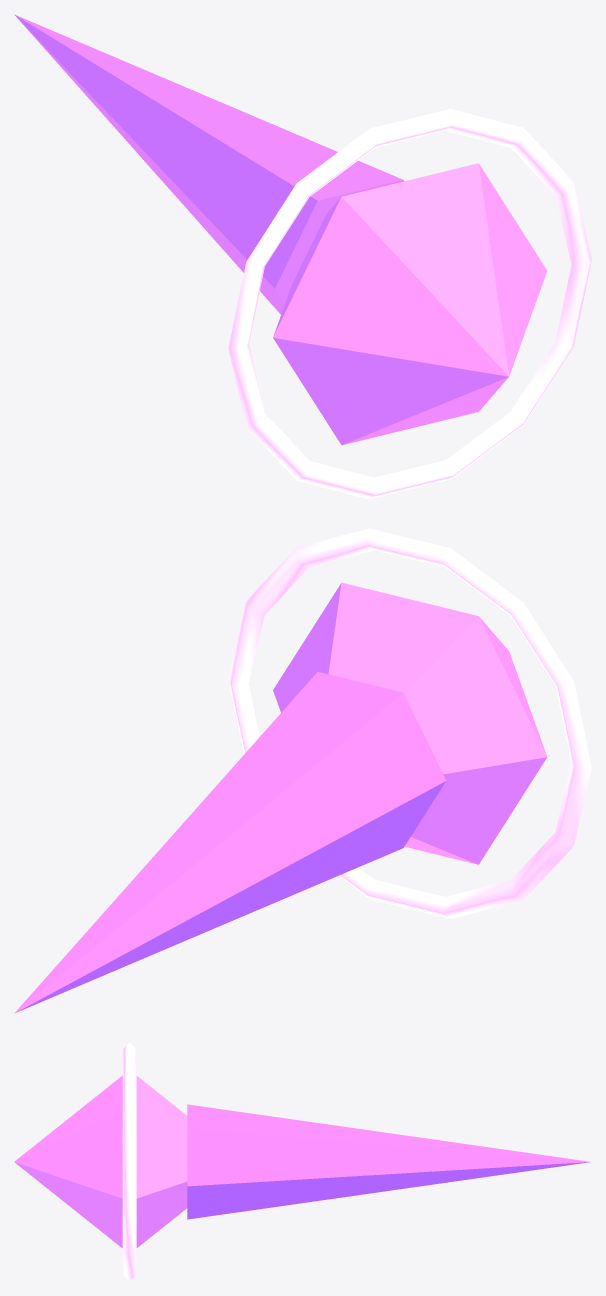
The model's file is proj_shadow.glb.
The picture shows the model from 3 angles, top to bottom: view 1: azimuth 30°, elevation 25°; view 2: azimuth 150°, elevation 25°; view 3: azimuth 270°, elevation 25°; orthographic projection. The views are drawn at different scales.
Parts seen in each view (by area): view 1: proj_shadow; view 2: proj_shadow; view 3: proj_shadow.
Boxes of the visible parts, x1,y1,x2,y2 form: proj_shadow: (14,14,591,499); proj_shadow: (14,528,591,1013); proj_shadow: (14,1042,590,1281).
Size of the model in its own units: 0.424 by 0.4134 by 1.
